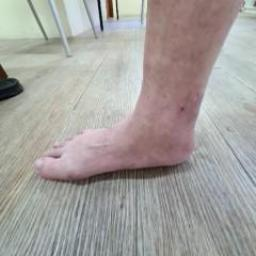Medial View -Right Foot-: (21, 74, 223, 200)
